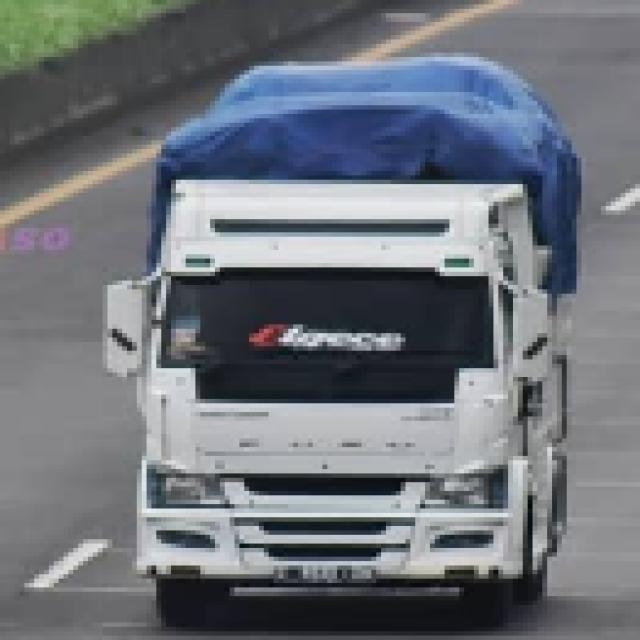Truck: (104, 48, 598, 625)
